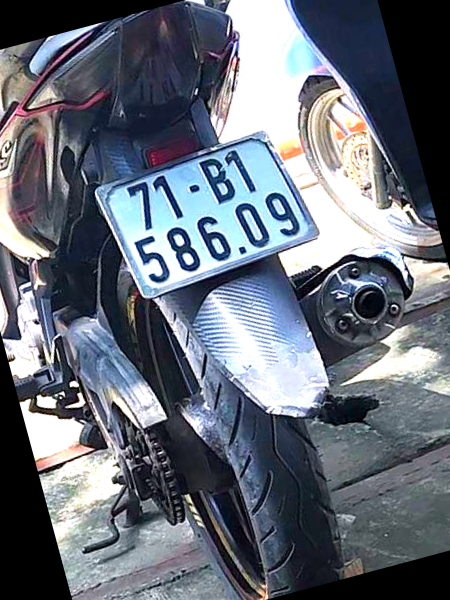number: (98, 130, 319, 291)
